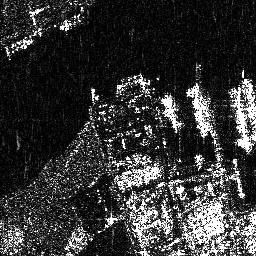ship: (227, 87, 252, 154), (185, 86, 211, 138), (161, 92, 181, 131)
